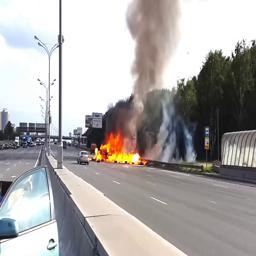fire: (94, 131, 142, 164)
